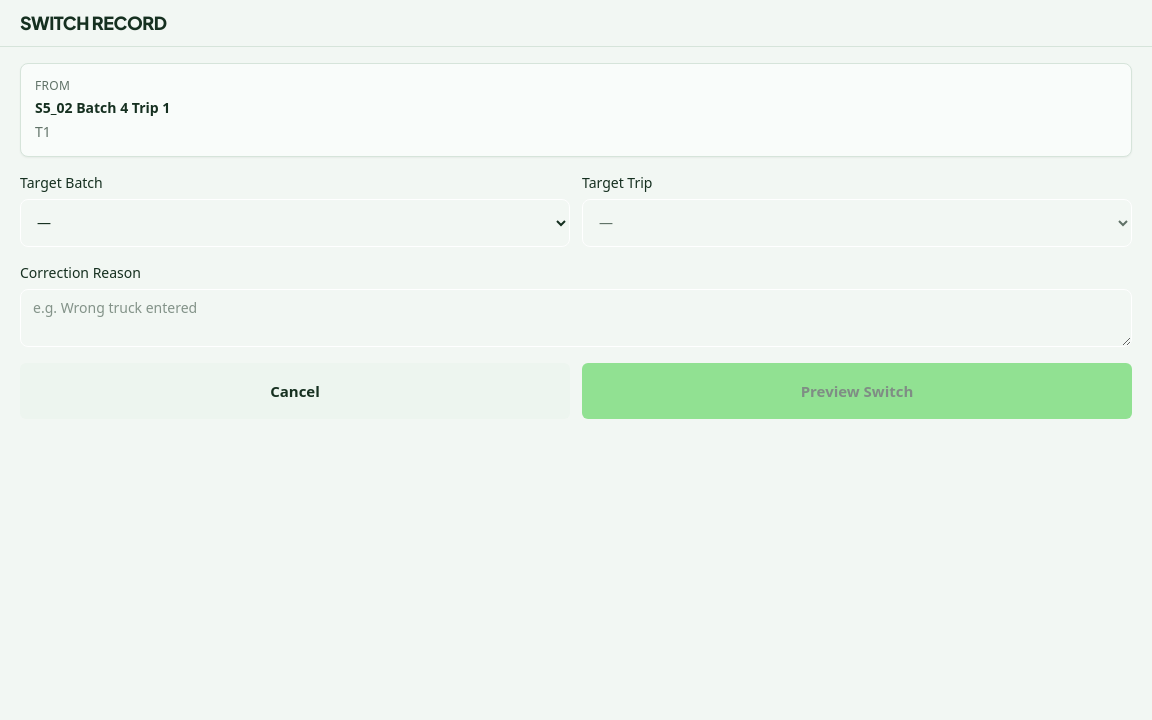
Test: ProductionSwitchRecordPage — from a source record (MOVE/SWAP) › plans a SWAP when the target position is occupied, showing the occupant truck
Expected: the heading "SWITCH RECORD" is shown, [20,12,167,34]
Select "4" in the dropdown labelled "Target Batch". click: {"x": 295, "y": 223}
box: [20,199,570,247]
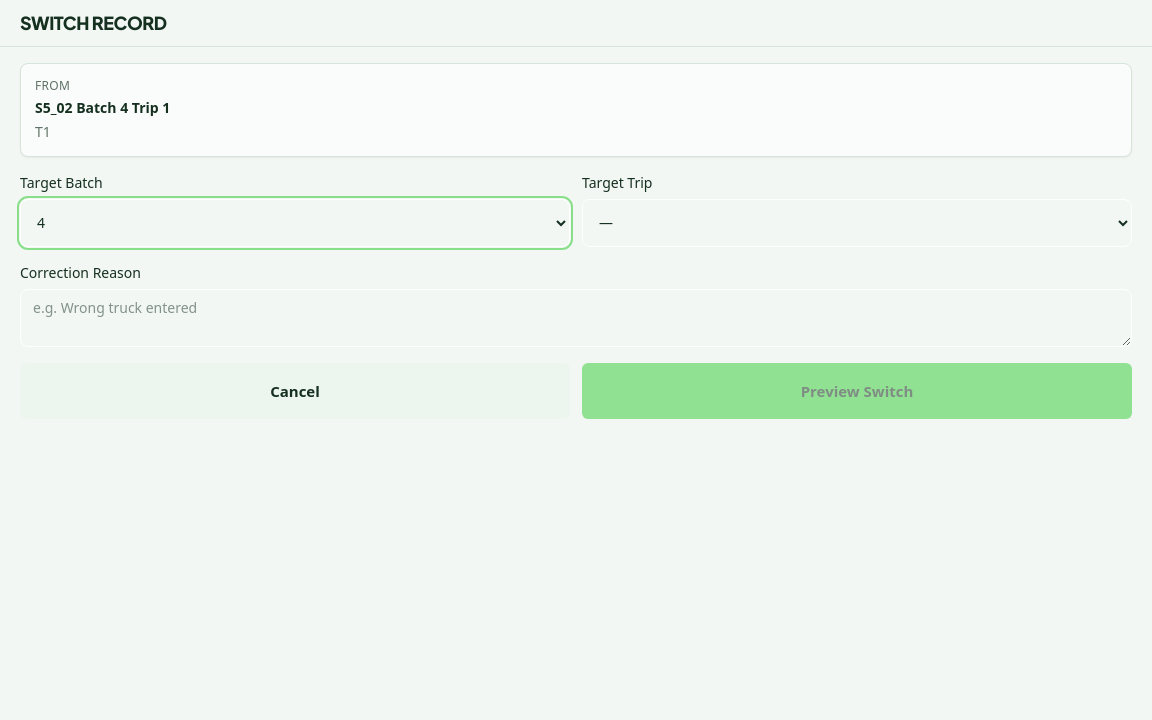
Select "9" in the dropdown labelled "Target Trip". click: {"x": 857, "y": 223}
box: [582,199,1132,247]
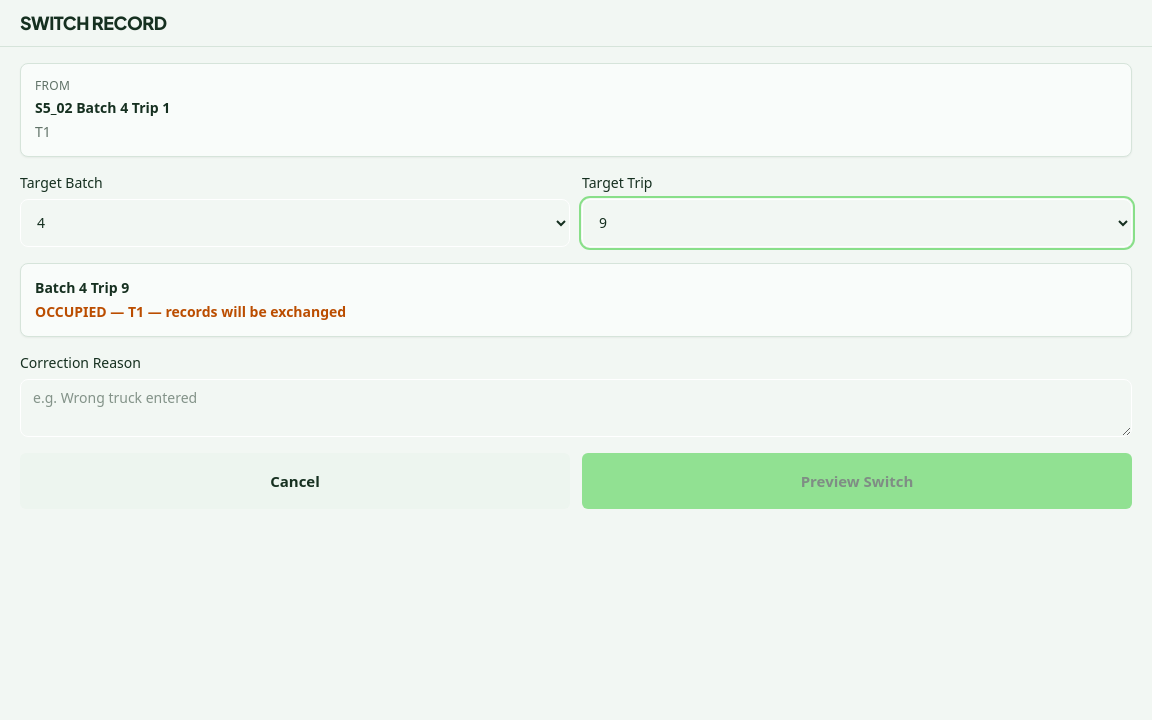
Type "reason" into the text box labelled "Correction Reason". click: {"x": 576, "y": 408}
box: [20,379,1132,437]
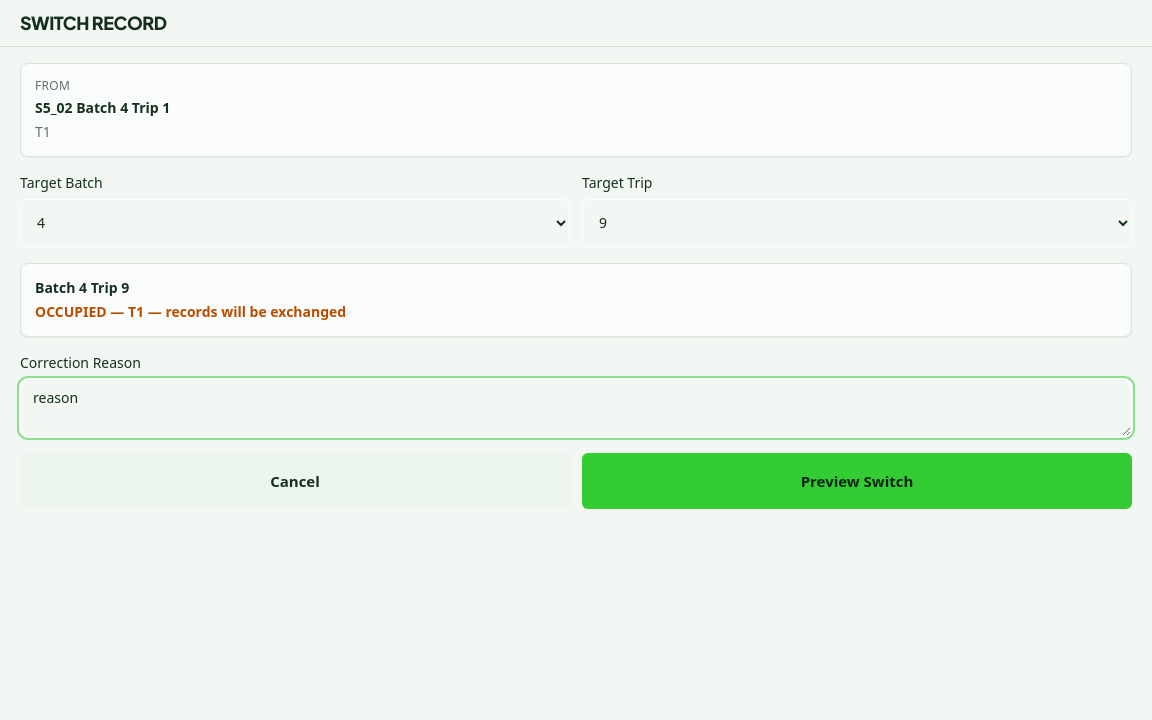
Click the button "Preview Switch". click: {"x": 857, "y": 481}
box: [582,453,1132,509]
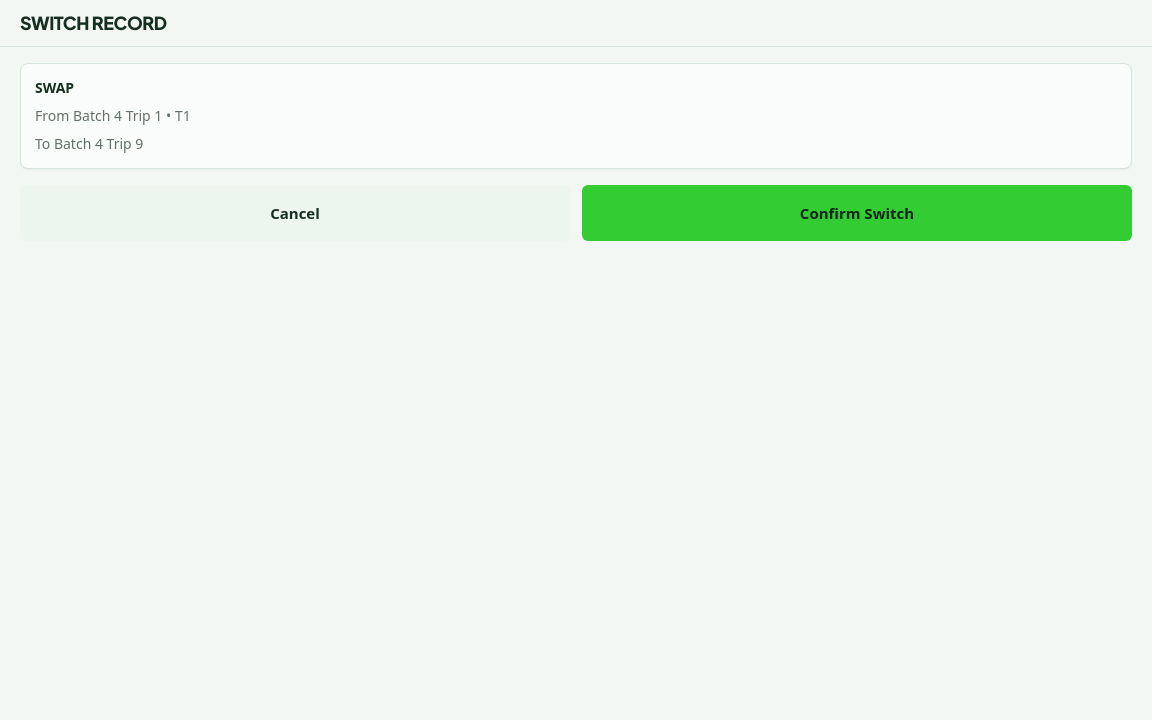
Result: the text "SWAP" is shown at [35,78,74,97]
